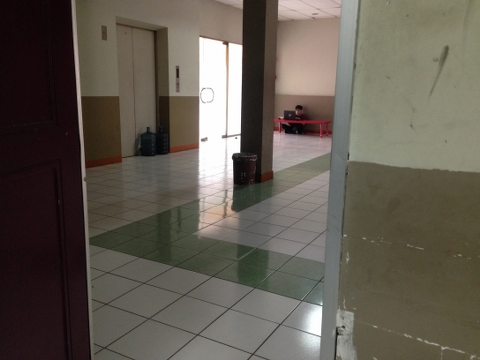meja: (273, 119, 331, 138)
pc: (284, 110, 296, 120)
